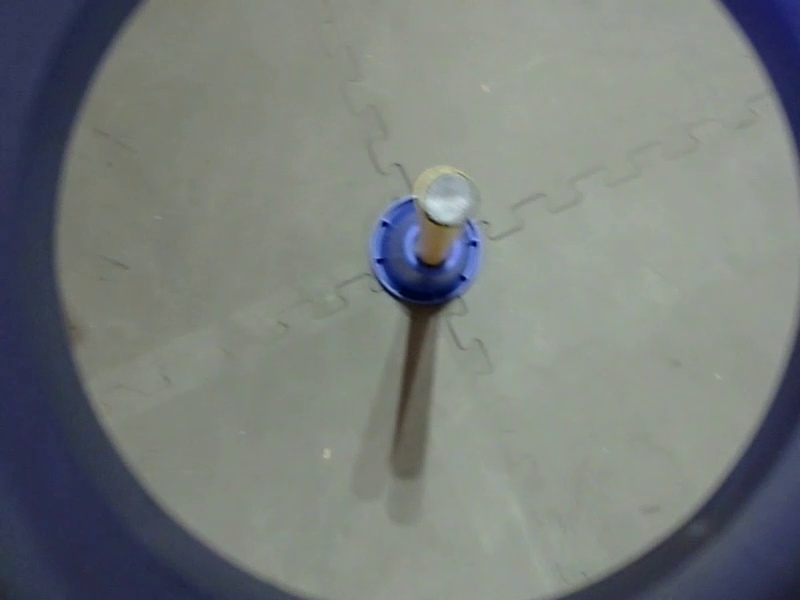tip: (249, 133, 357, 234)
